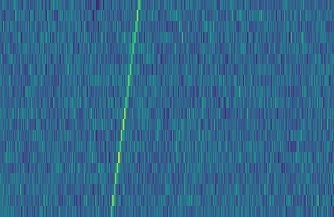signal: (106, 0, 144, 217)
